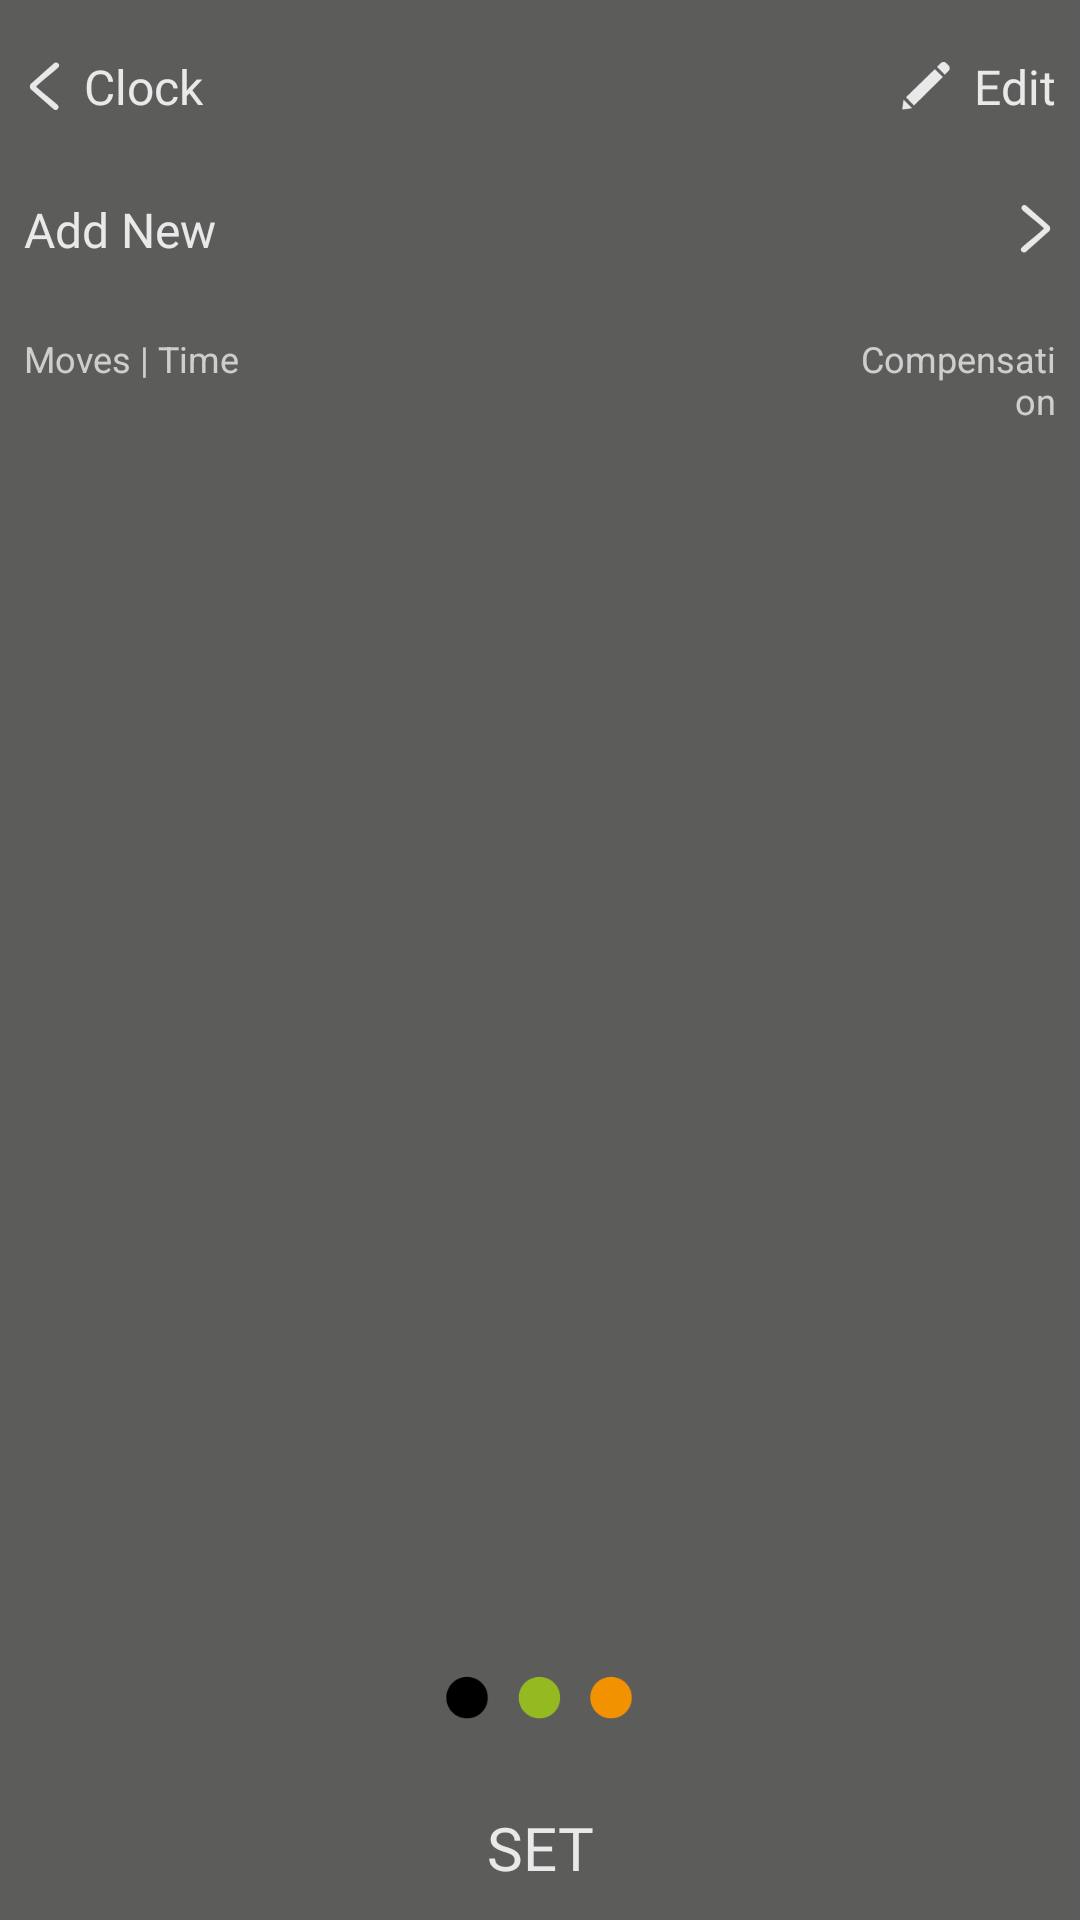

Screen size 1080*1920. Icon name, then its box in pixels as [x1,y1,x2,y2]:
pencil: [902,62,950,110]
